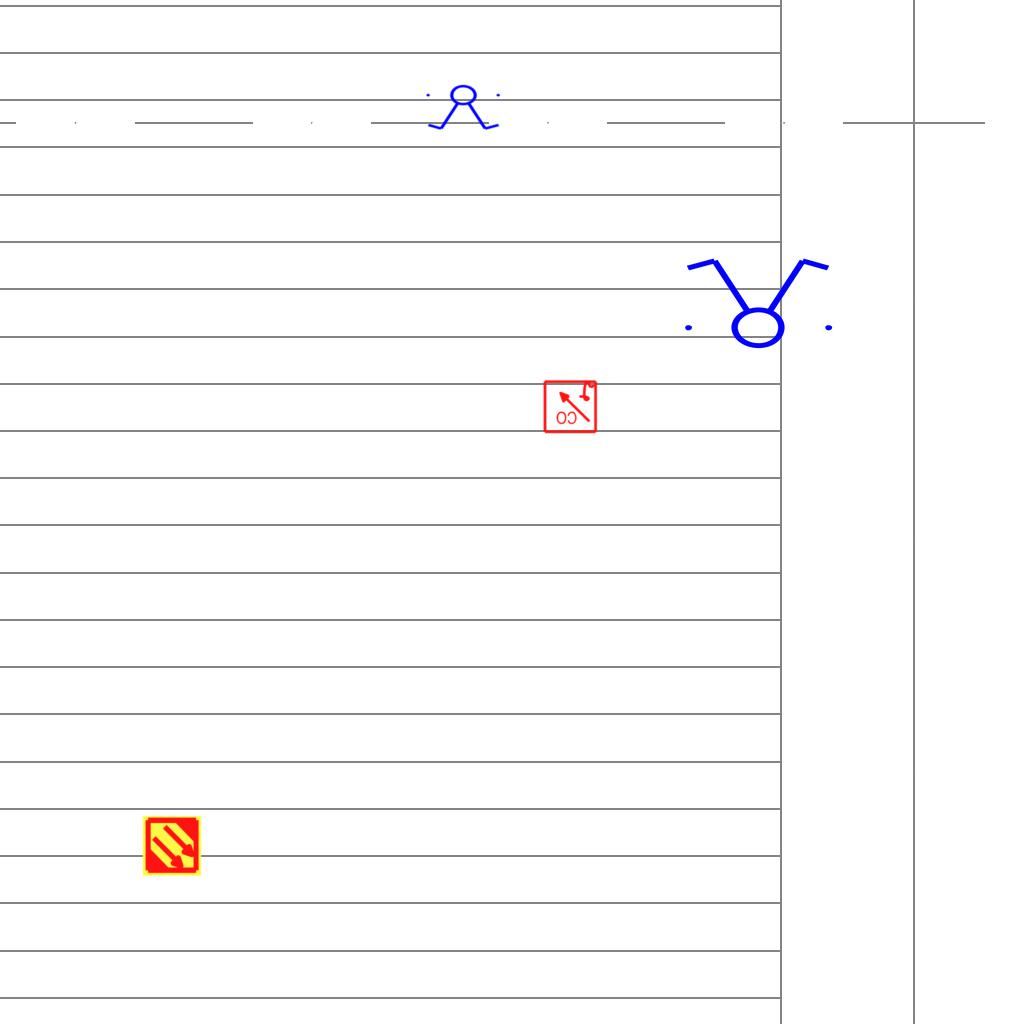ASR_Ansaugrauchmelder: (141, 815, 203, 877)
ROA_Rauchmelder_optisch_mit_Signalgeber_(Sockelsirene): (542, 378, 598, 434)
Serienschalter: (673, 254, 841, 350), (422, 84, 506, 132)
